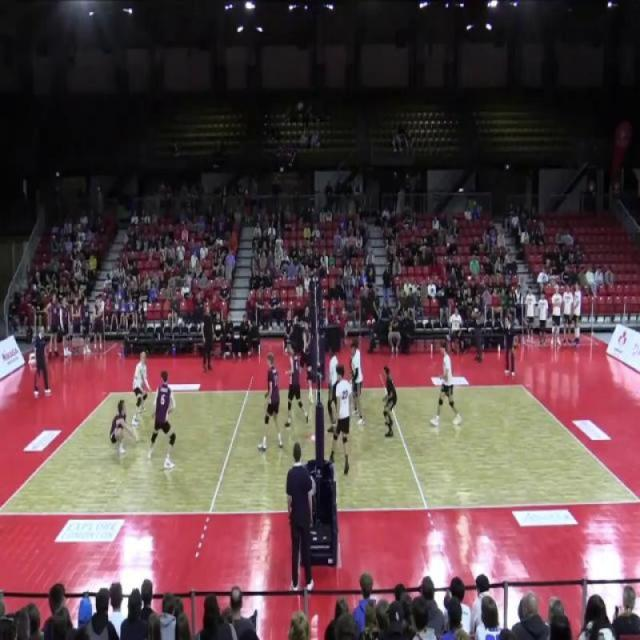volleyball: (138, 368, 146, 381)
